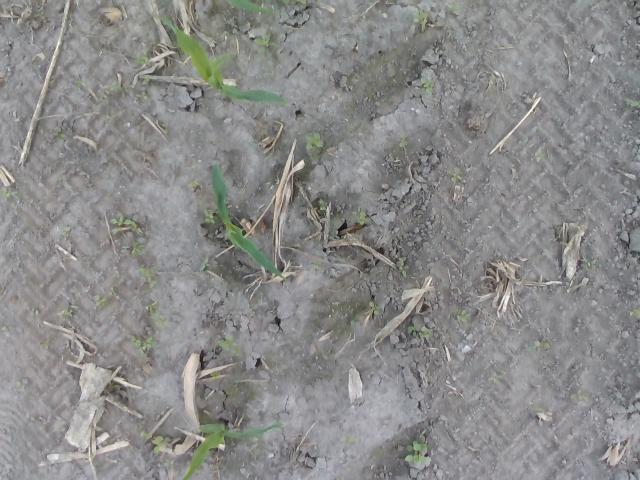Maize: (159, 13, 289, 106), (212, 160, 288, 282), (179, 423, 285, 480)
Weeds: (140, 432, 171, 456), (146, 301, 169, 328), (136, 50, 148, 100), (404, 442, 429, 466), (102, 84, 135, 100), (109, 216, 138, 234), (216, 334, 242, 354), (128, 336, 154, 356), (92, 291, 118, 308), (526, 342, 552, 356), (304, 134, 324, 152), (136, 266, 154, 286), (407, 325, 432, 339), (253, 34, 274, 50), (446, 1, 466, 14), (446, 168, 462, 184), (396, 259, 410, 277), (58, 306, 78, 318), (202, 208, 216, 225), (413, 10, 427, 26), (352, 210, 370, 222), (52, 127, 68, 140), (626, 96, 640, 110), (125, 243, 140, 256), (422, 78, 434, 94), (341, 436, 356, 448), (2, 188, 19, 198), (200, 258, 212, 270), (458, 310, 470, 322), (629, 308, 640, 320), (320, 200, 330, 213), (400, 134, 408, 149), (370, 302, 380, 314), (576, 395, 588, 404), (163, 460, 175, 469), (493, 374, 503, 384), (535, 148, 542, 162), (62, 226, 68, 240), (16, 381, 25, 390)
